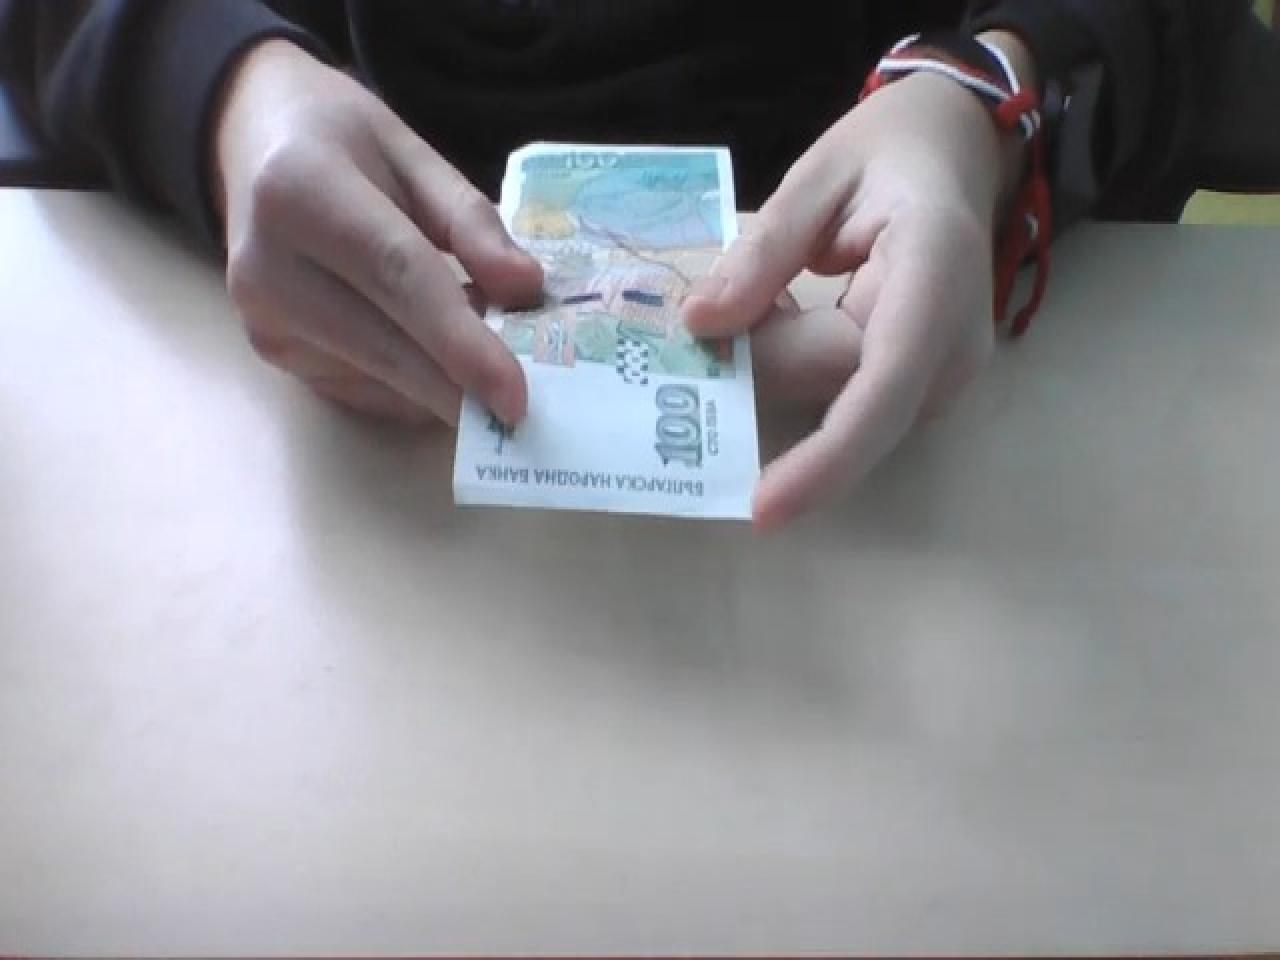100leva: (450, 139, 762, 520)
